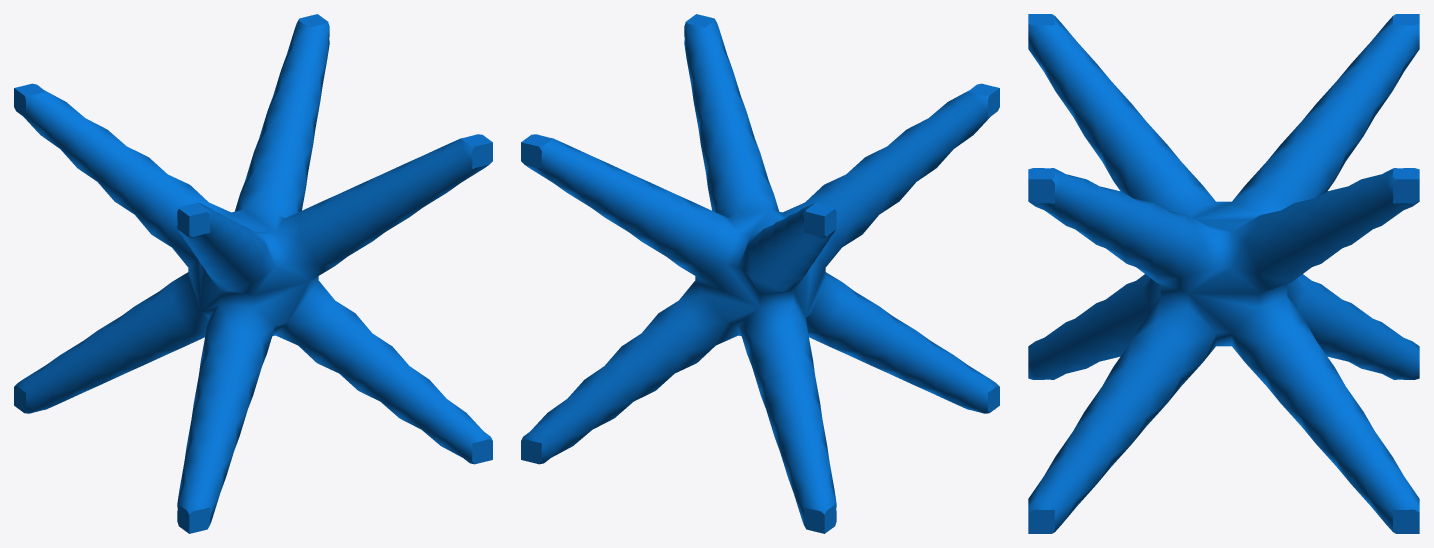
File: Variation2.glb
3 views of the same model, side by side, from view 1: azimuth 30°, elevation 25°; view 2: azimuth 150°, elevation 25°; view 3: azimuth 270°, elevation 25° (orthographic). The views are drawn at different scales.
Parts seen in each view (by area): view 1: Mesh_0.001; view 2: Mesh_0.001; view 3: Mesh_0.001.
Part boxes in pixels (box(x1,y1,x2,y2)): Mesh_0.001: box(14, 14, 492, 533); Mesh_0.001: box(521, 14, 999, 533); Mesh_0.001: box(1028, 14, 1419, 533).
Size of the model in its own units: 1 by 1 by 1.
